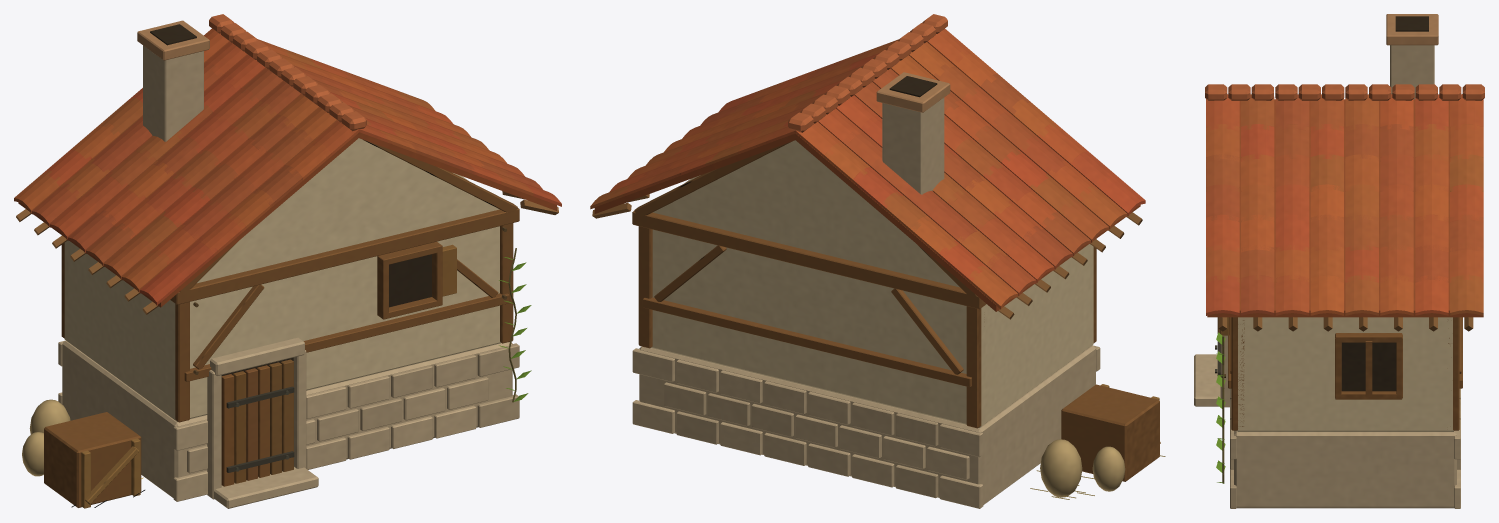
Rendered from SM_MolinoAgua_Edificio_Detalle_LOD0.fbx.
3 renders of one model, left to right at view 1: azimuth 30°, elevation 25°; view 2: azimuth 150°, elevation 25°; view 3: azimuth 270°, elevation 25°, orthographic. The views are drawn at different scales.
Visible parts, largest first — view 1: SM_MolinoAgua_Edificio_Detalle_LOD0; view 2: SM_MolinoAgua_Edificio_Detalle_LOD0; view 3: SM_MolinoAgua_Edificio_Detalle_LOD0.
Boxes of the visible parts, x1,y1,x2,y2 form: SM_MolinoAgua_Edificio_Detalle_LOD0: (14, 14, 561, 508); SM_MolinoAgua_Edificio_Detalle_LOD0: (590, 14, 1165, 508); SM_MolinoAgua_Edificio_Detalle_LOD0: (1194, 14, 1484, 508).
Bounding box in the file's own units: 0.9359 × 0.7285 × 0.5215.
Materials: 1 (1 with a texture image).
